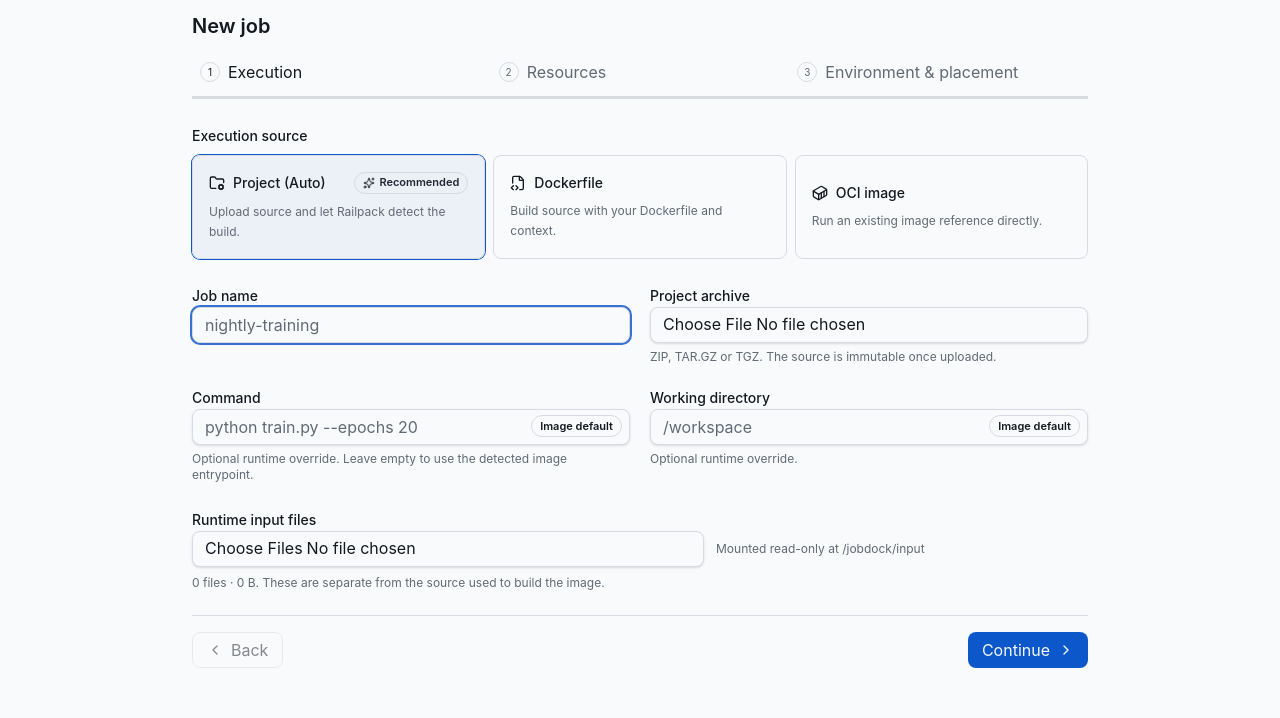
it: NewJob execution source › offers Auto, Dockerfile, and OCI with progressive configuration
This screenshot has width=1280, height=718.
Expected: the text "Recommended" is shown, [354,172,468,194]
Click the button "Dockerfile Build source with your Dockerfile and context." at (640, 207), box [493,155,787,259]
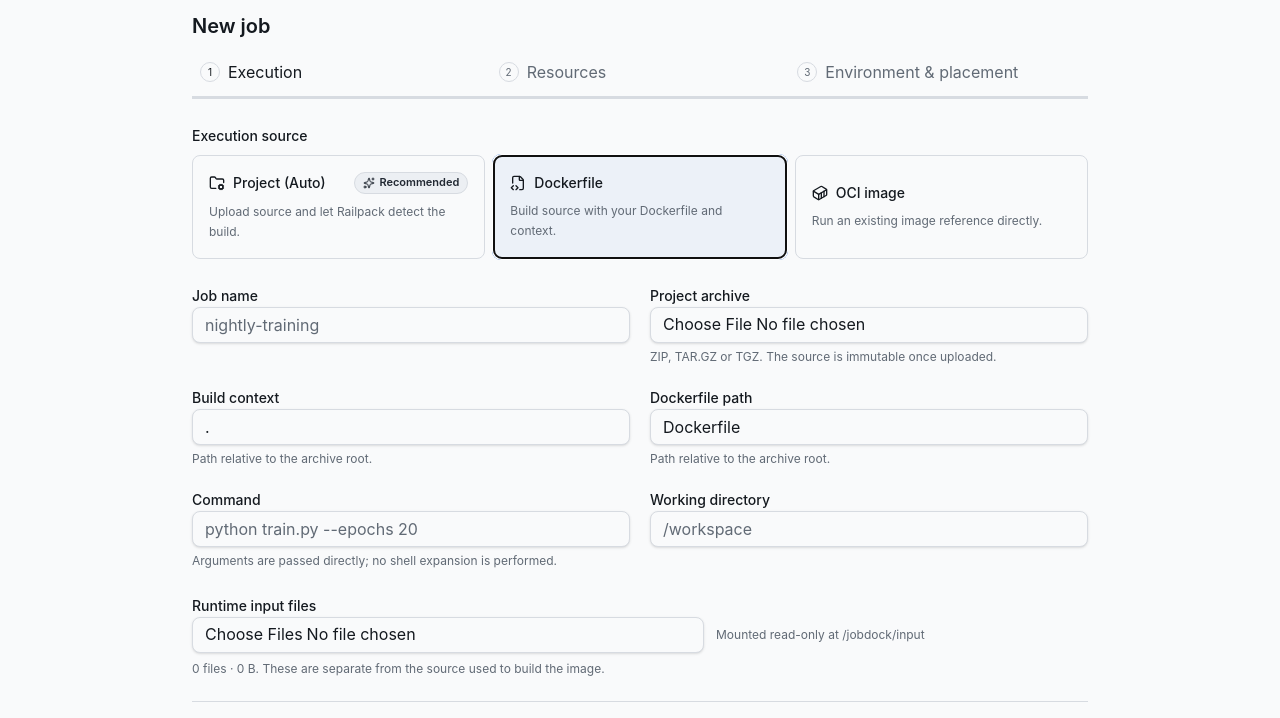
Expected: the field labelled "Build context" is shown, [192,409,630,445]
Expected: the field labelled "Dockerfile path" is shown, [650,409,1088,445]
Click the button "OCI image Run an existing image reference directly." at (870, 192), box [795,155,1088,259]
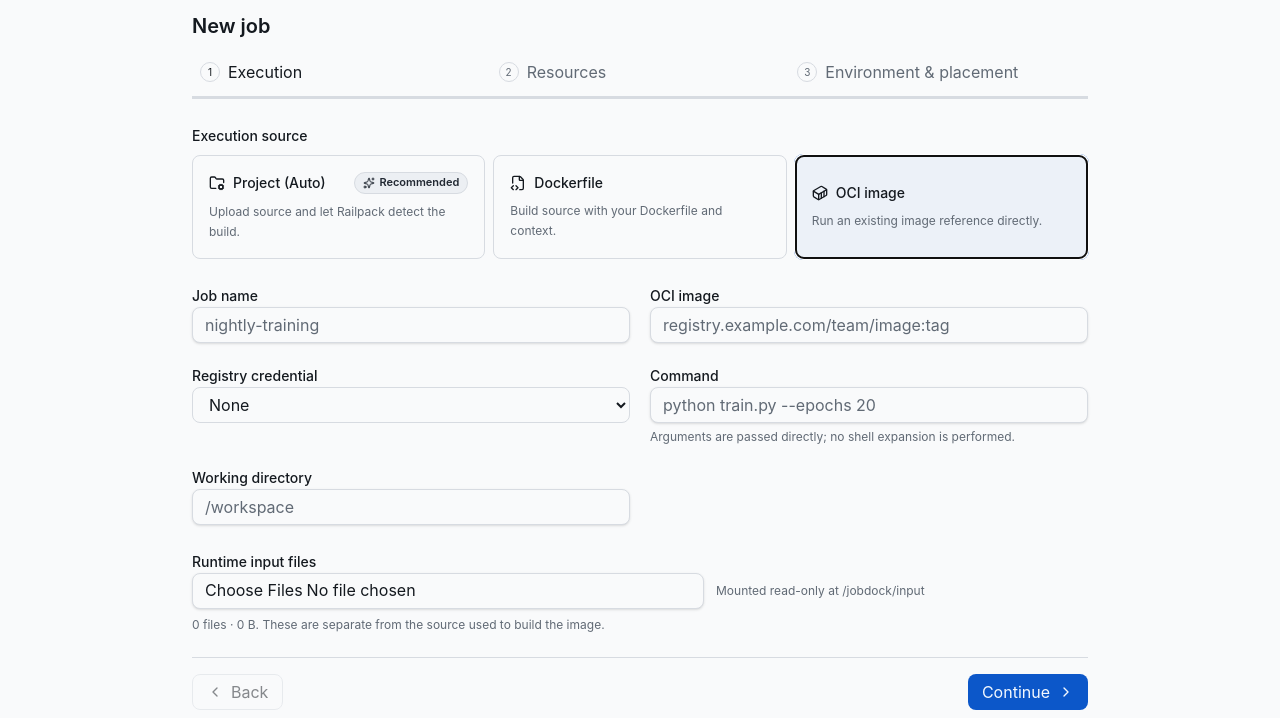
Expected: the field labelled "OCI image" is shown, [650,307,1088,343]
Expected: the label labelled "Build context" is gone
